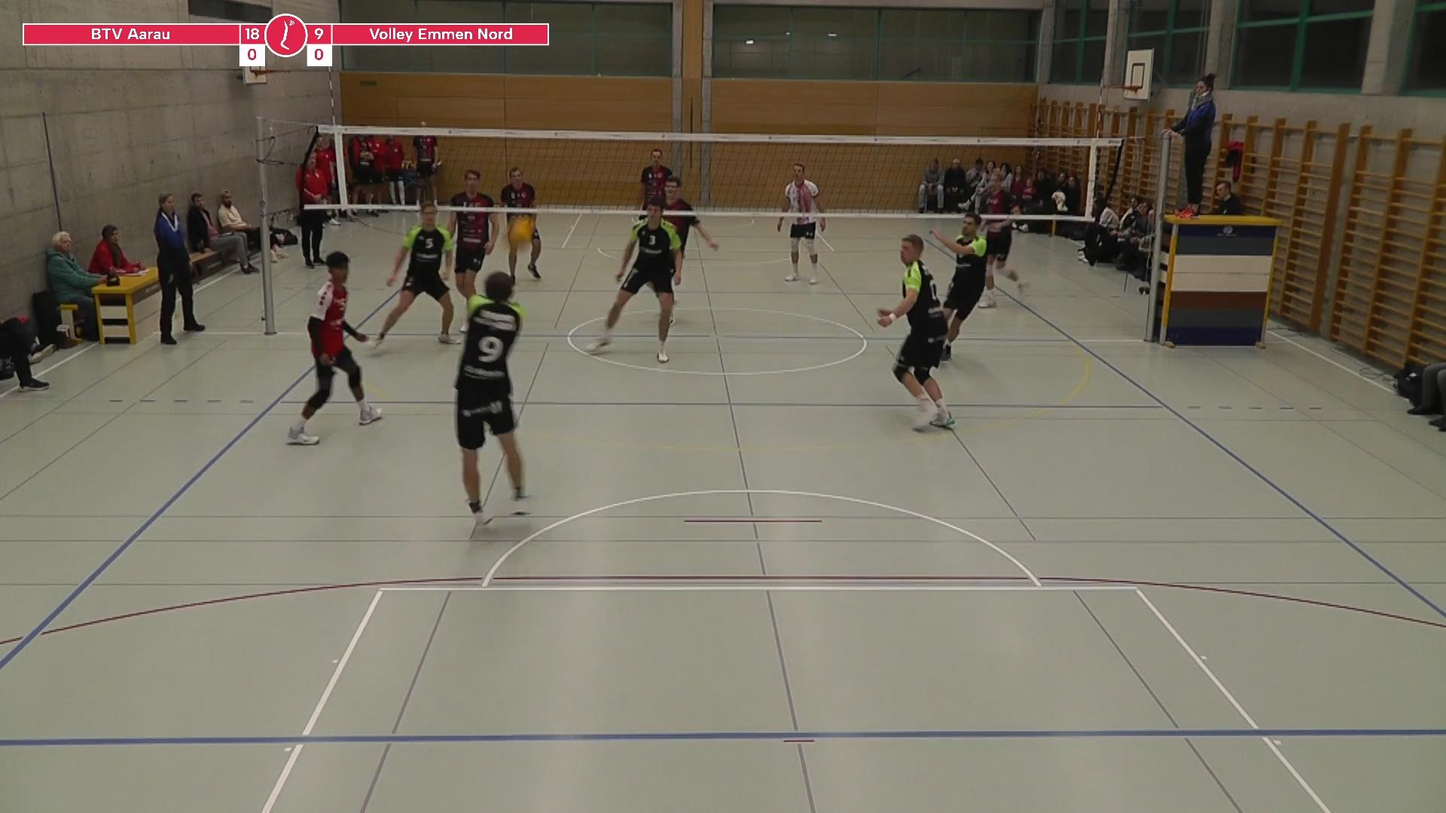Player: (288, 252, 382, 445), (589, 199, 682, 363), (878, 234, 953, 430), (376, 202, 457, 346), (932, 213, 987, 360), (979, 171, 1027, 308), (776, 163, 825, 284), (449, 211, 500, 299), (664, 176, 717, 257), (639, 149, 673, 208), (527, 215, 541, 278)
Receive: (444, 260, 538, 541)
ball: (505, 215, 535, 251)
